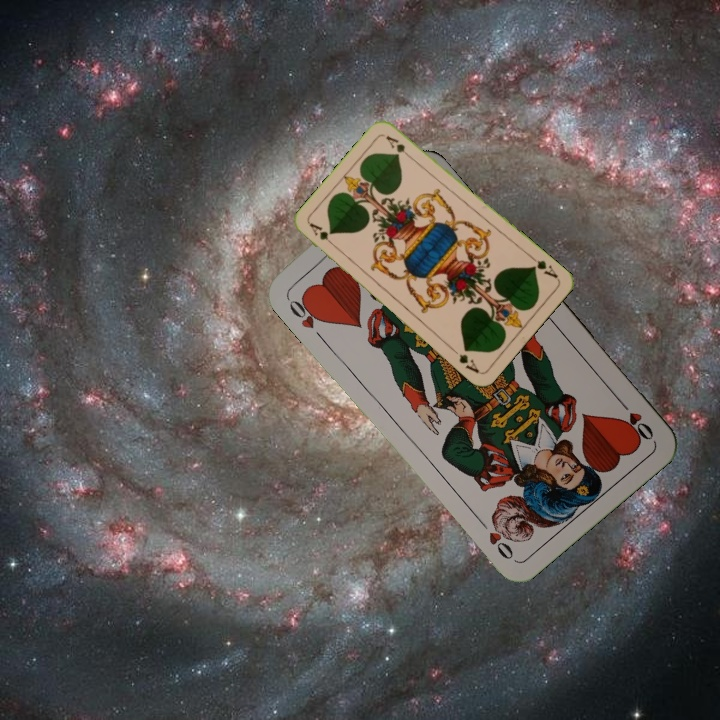GA: (305, 219, 339, 251), (526, 252, 560, 281)
HO: (613, 394, 657, 443), (283, 291, 328, 332)
